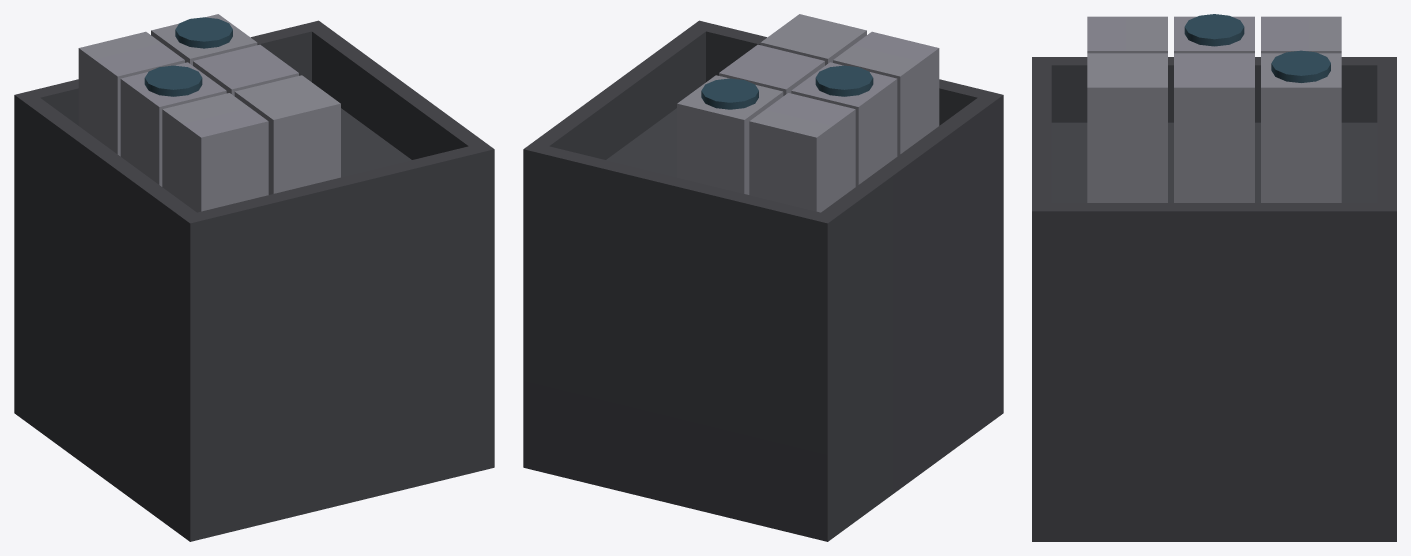
File: Prop_BM1.fbx
3 views of the same model, side by side, from view 1: azimuth 30°, elevation 25°; view 2: azimuth 150°, elevation 25°; view 3: azimuth 270°, elevation 25° (orthographic). The views are drawn at different scales.
Visible parts, largest first — view 1: Prop_BM_1; view 2: Prop_BM_1; view 3: Prop_BM_1.
Boxes of the visible parts, box(x1,y1,x2,y2) form: Prop_BM_1: box(14, 14, 494, 541); Prop_BM_1: box(523, 14, 1003, 541); Prop_BM_1: box(1032, 14, 1396, 541).
Bounding box in the file's own units: 879 × 1056 × 879.
